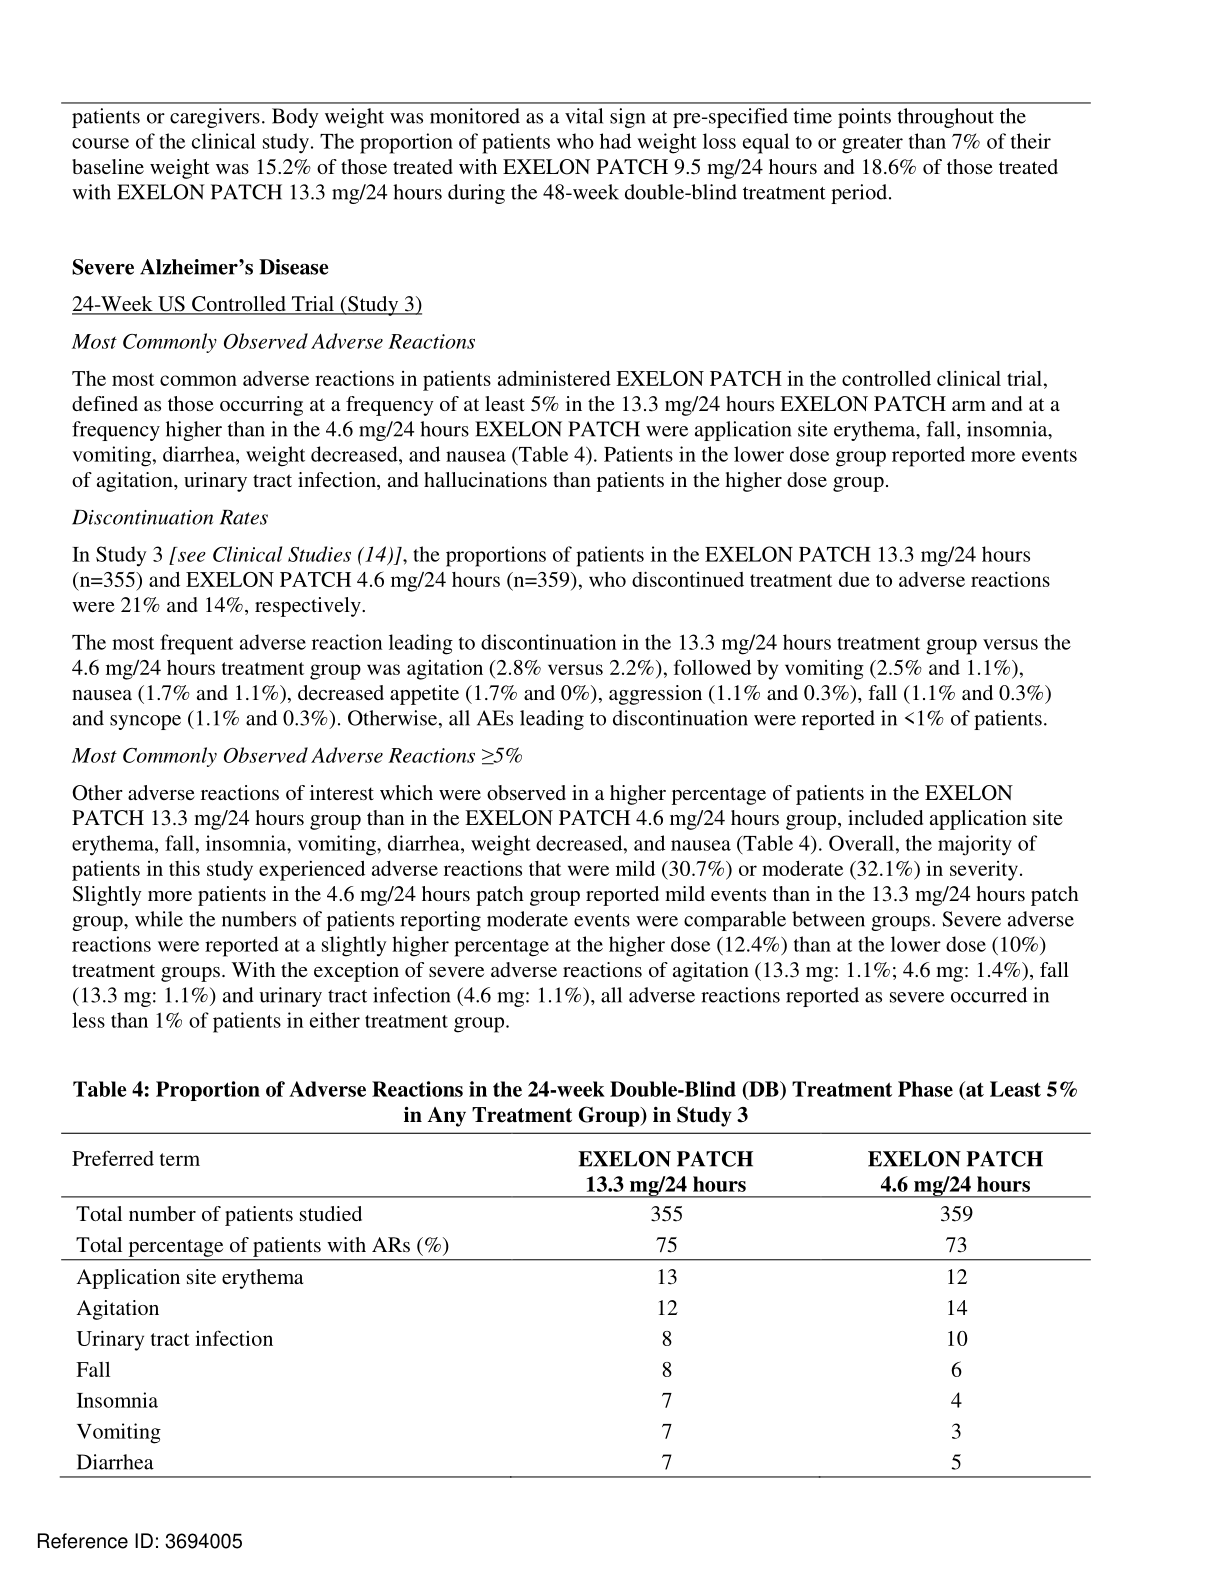partial_lined: (58, 1130, 1094, 1480)
